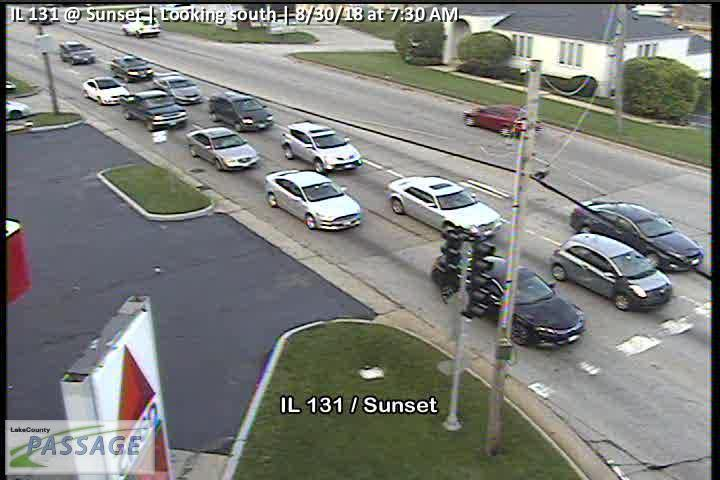SUV: (552, 232, 673, 312), (281, 122, 363, 176), (208, 89, 273, 134), (111, 55, 152, 82), (120, 13, 161, 39), (58, 40, 94, 65)
Sedan: (431, 251, 585, 349), (571, 198, 705, 274), (385, 175, 502, 239), (264, 168, 360, 231), (185, 127, 258, 171), (462, 102, 545, 140), (152, 73, 202, 105), (81, 77, 130, 106)
Truck: (119, 89, 187, 133)
